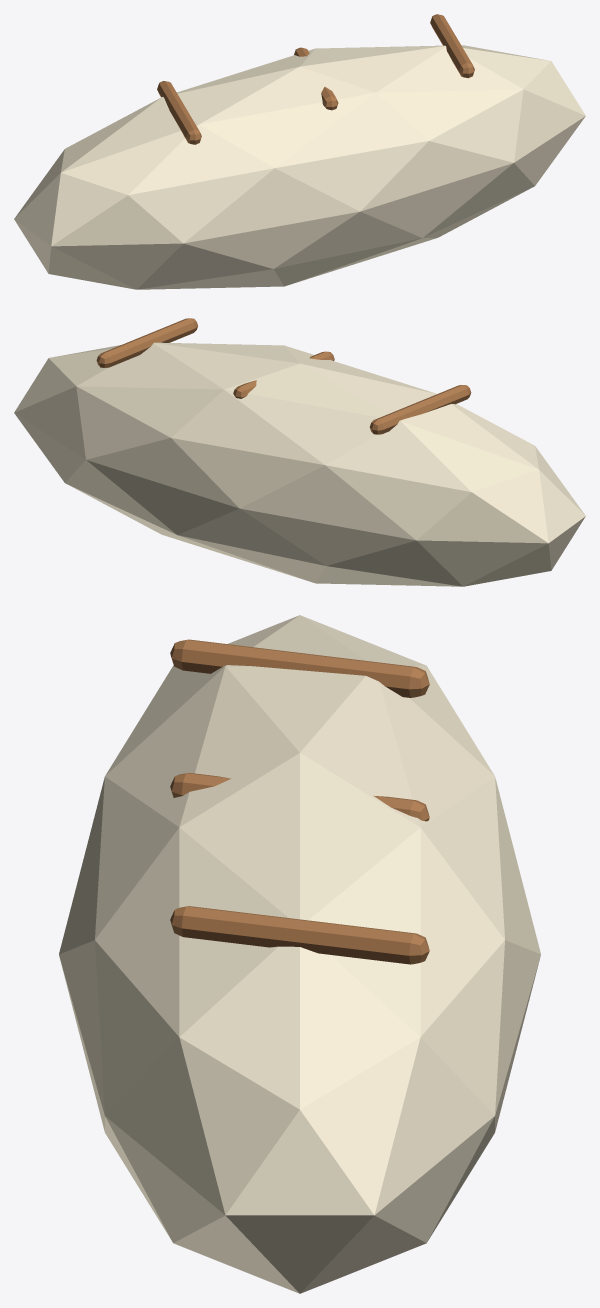
File: bread.glb
3 views of the same model, one above another, from view 1: azimuth 30°, elevation 25°; view 2: azimuth 150°, elevation 25°; view 3: azimuth 270°, elevation 25° (orthographic). The views are drawn at different scales.
Visible parts, largest first — view 1: bread_loaf, bread_score.002, bread_score, bread_score.001; view 2: bread_loaf, bread_score.002, bread_score, bread_score.001; view 3: bread_loaf, bread_score.002, bread_score, bread_score.001.
Part boxes in pixels (bbox=[...]): bread_loaf: bbox=[14, 45, 585, 289]; bread_score.002: bbox=[430, 14, 474, 78]; bread_score: bbox=[157, 81, 201, 144]; bread_score.001: bbox=[294, 47, 338, 110]; bread_loaf: bbox=[14, 342, 585, 586]; bread_score.002: bbox=[96, 318, 197, 367]; bread_score: bbox=[369, 385, 471, 434]; bread_score.001: bbox=[233, 351, 334, 398]; bread_loaf: bbox=[59, 615, 540, 1293]; bread_score.002: bbox=[170, 906, 429, 964]; bread_score: bbox=[170, 639, 429, 697]; bread_score.001: bbox=[170, 773, 429, 821].
Size of the model in its own units: 0.6657 by 0.24 by 0.26.
